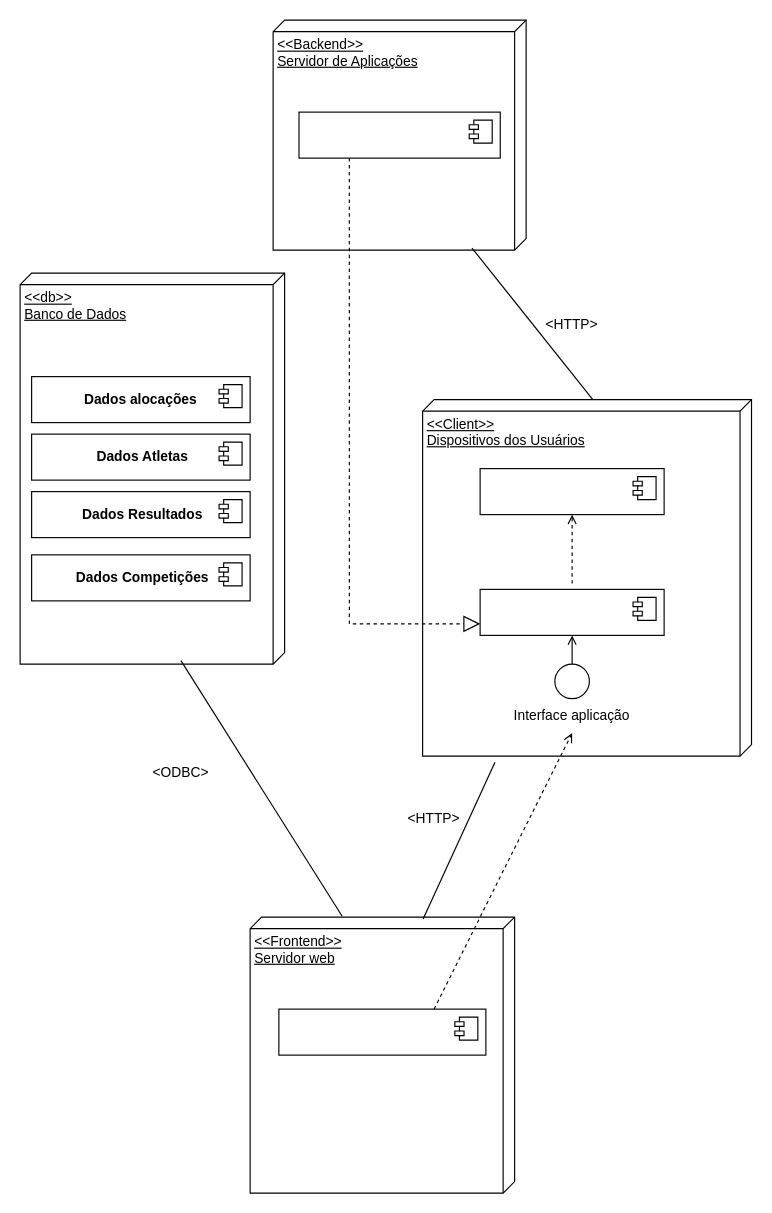
This 772x1213 diagram has some shape labels left out. Each missing label, with the centre of its shape:
Aplicação web: (x=382, y=1031)
APPS: (x=571, y=611)
Logica do sistema: (x=399, y=134)
Usuario: (x=571, y=491)
